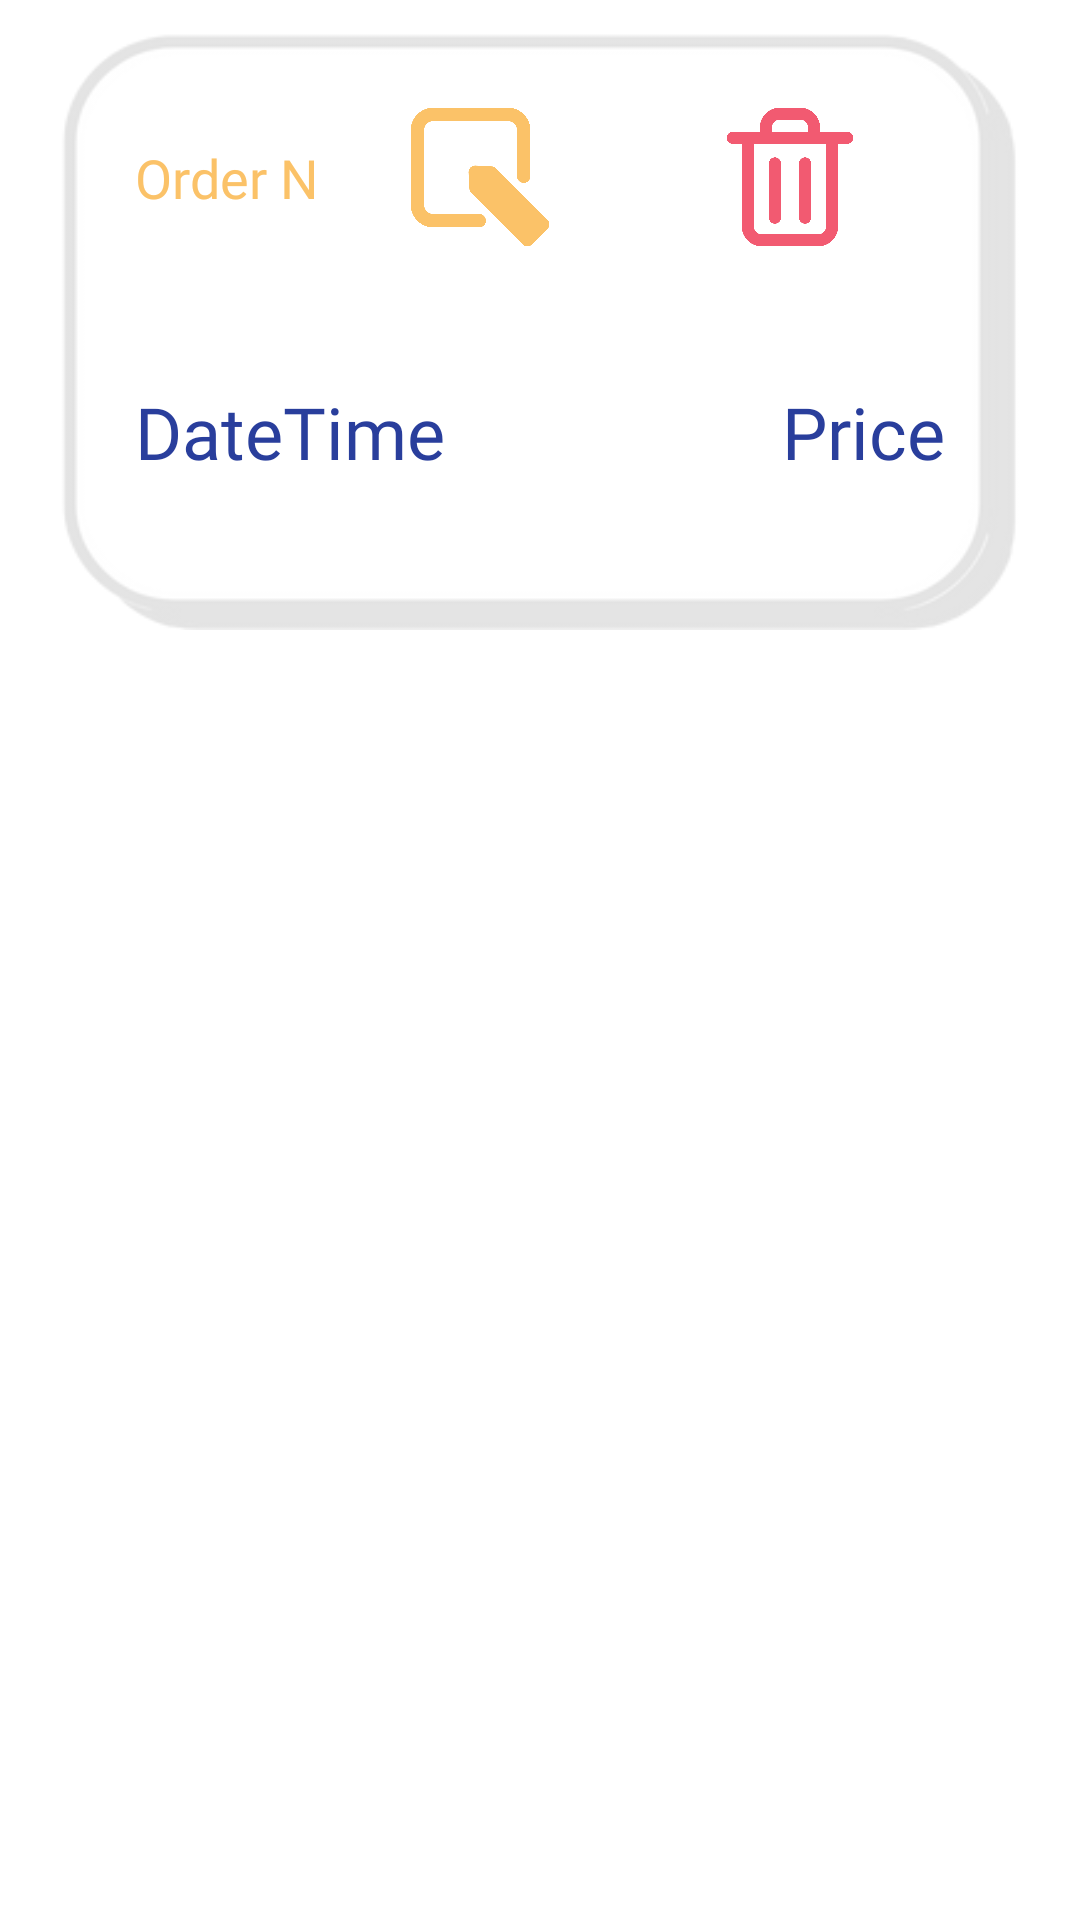

Icon bounding boxes for this 1080 x 1920 phone screenshot, format (x1, y1, x2, y2):
delete: (727, 108, 853, 246)
edit: (411, 108, 549, 246)
